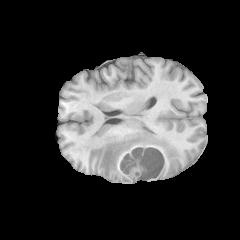glioma: (97, 129, 184, 183)
